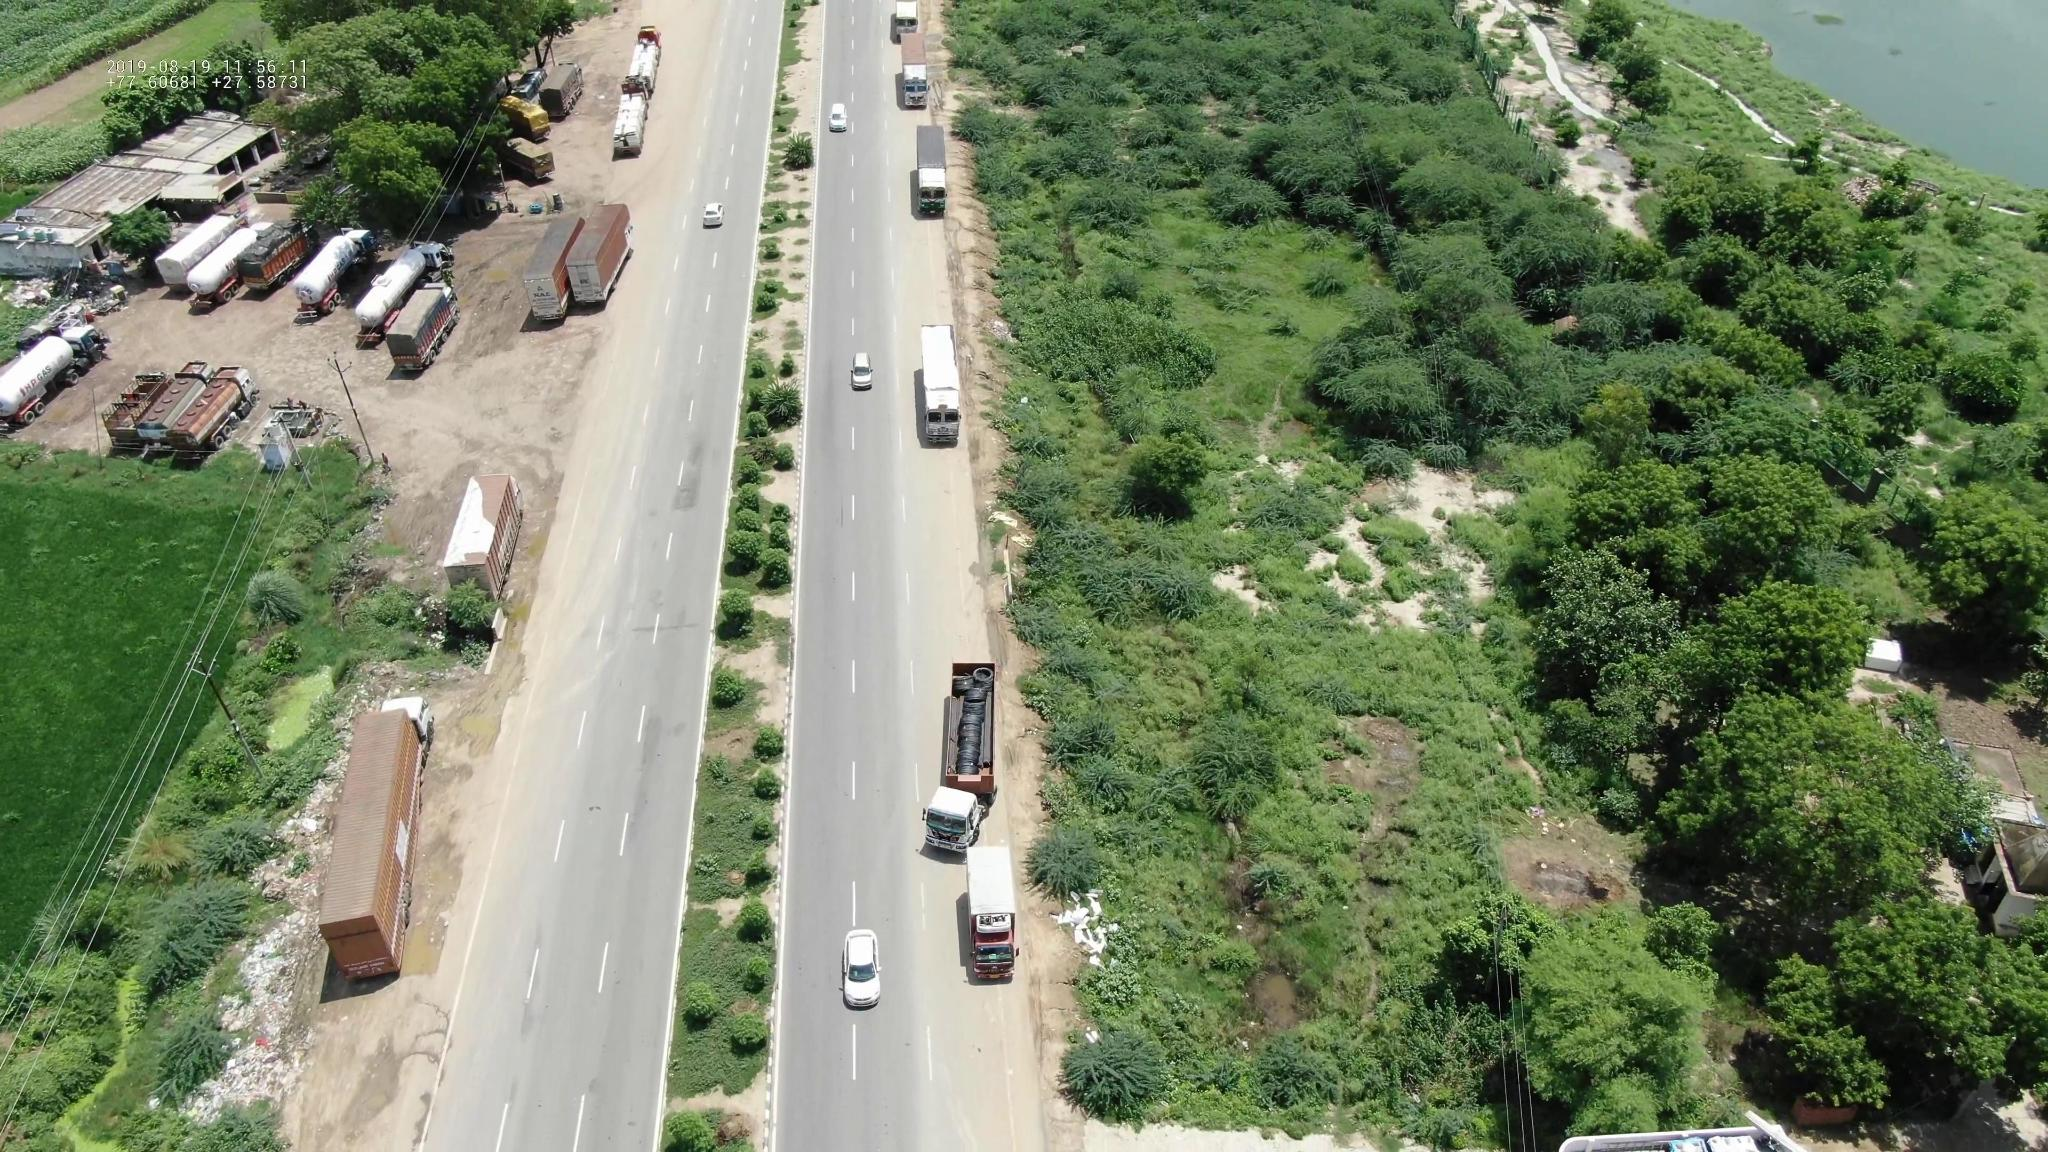Road_side_garbage: (219, 928, 307, 1090)
